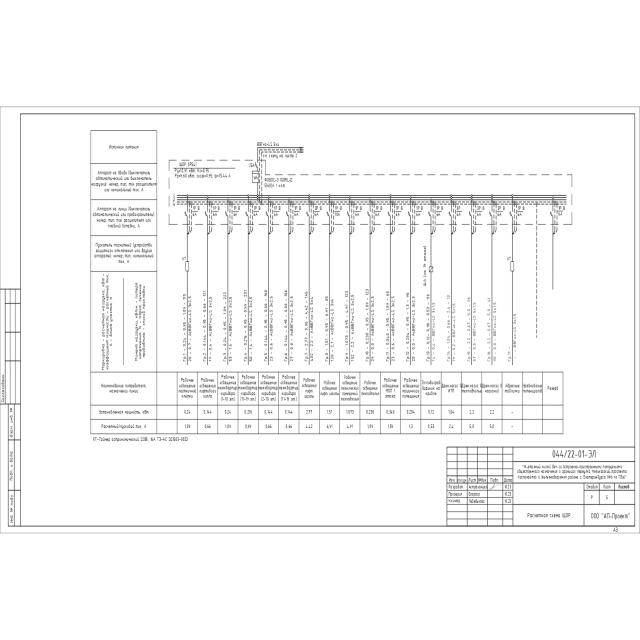-: (264, 177, 293, 190), (179, 161, 197, 168), (355, 205, 363, 218), (415, 204, 423, 217), (273, 204, 281, 217), (476, 204, 484, 217), (497, 205, 505, 217), (212, 205, 220, 217), (254, 205, 262, 217), (232, 205, 240, 217), (314, 205, 322, 217), (558, 205, 566, 217), (436, 205, 444, 217), (294, 205, 302, 217), (334, 205, 342, 217), (192, 205, 200, 217), (517, 205, 525, 217), (375, 205, 383, 217), (396, 205, 404, 217), (457, 205, 462, 218), (249, 162, 255, 168)
QF: (346, 209, 351, 218), (509, 209, 514, 217), (550, 208, 554, 218), (225, 208, 229, 218), (184, 208, 188, 218), (448, 208, 452, 218), (408, 208, 412, 218), (367, 208, 371, 218), (326, 210, 331, 218), (468, 208, 472, 218), (266, 208, 270, 217), (204, 209, 208, 218), (286, 209, 290, 218), (388, 209, 392, 218), (306, 209, 310, 218), (489, 208, 493, 217), (246, 210, 250, 218), (254, 161, 258, 169), (428, 210, 432, 218)
WH: (252, 170, 260, 184)
